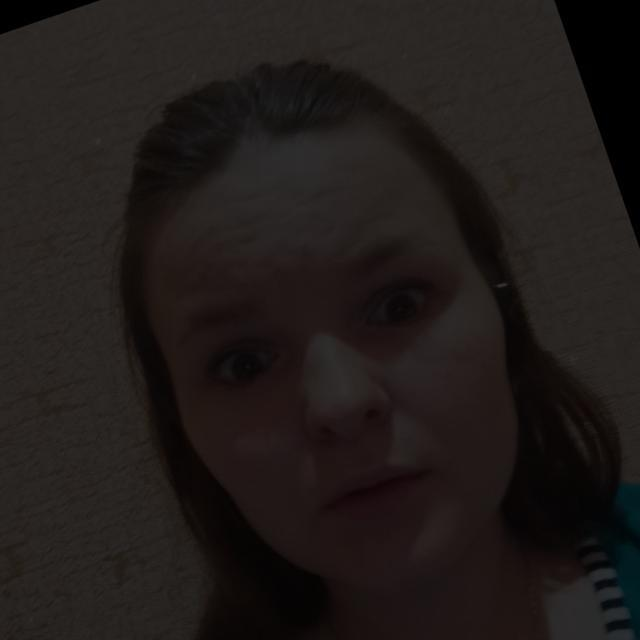Surprised: (106, 112, 538, 566)
